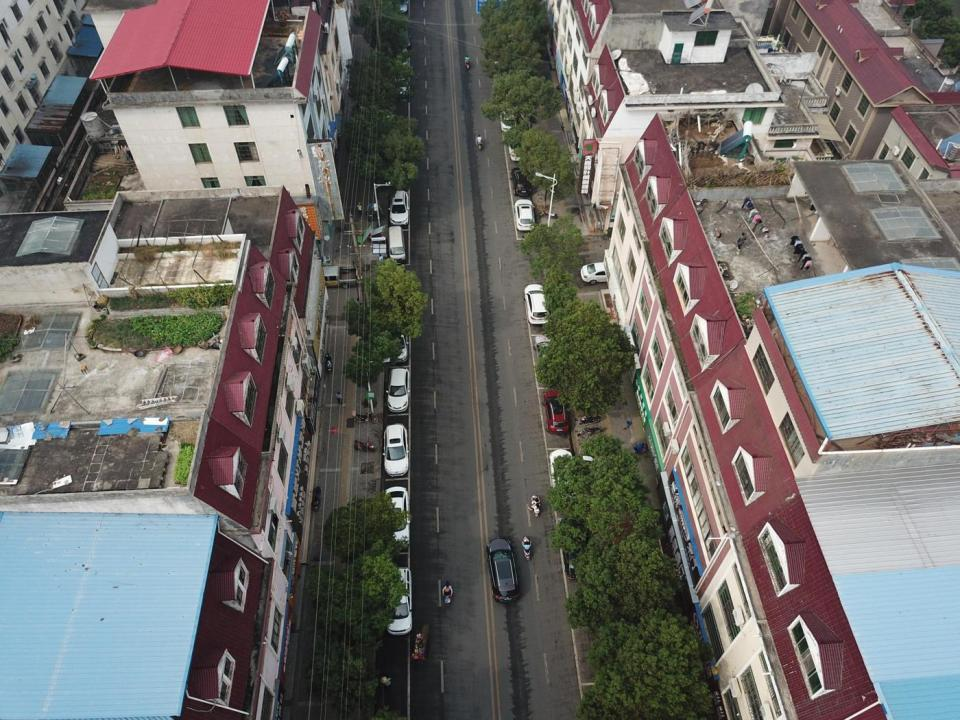car: (486, 537, 519, 603), (385, 566, 412, 635), (559, 517, 588, 579), (383, 486, 410, 549), (384, 423, 410, 477), (534, 334, 563, 379), (543, 389, 569, 435), (549, 450, 575, 496), (579, 262, 631, 283), (524, 283, 550, 324), (388, 367, 410, 411), (390, 190, 410, 226), (514, 200, 535, 231), (389, 327, 408, 361), (510, 167, 532, 196), (506, 137, 526, 163), (393, 77, 411, 101), (395, 22, 411, 49), (499, 107, 516, 132), (394, 49, 410, 73), (395, 0, 408, 14)
truck: (313, 265, 361, 288)
van: (388, 226, 406, 264)
